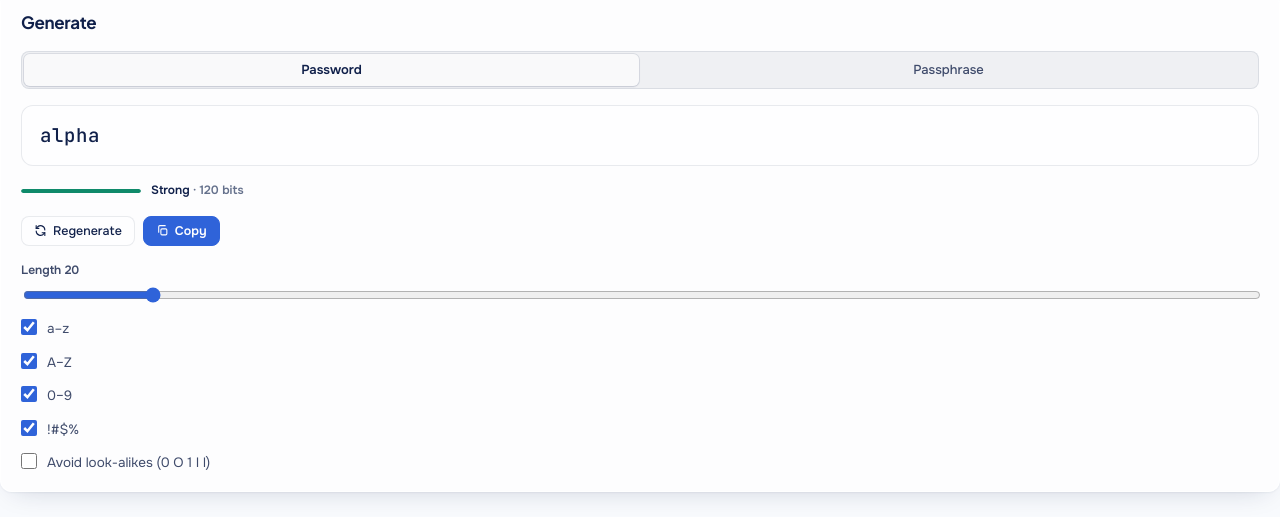
Generator › generates a password, regenerates and copies it
The width and height of the screenshot is (1280, 517).
Expected: the text "alpha" is shown, [40,123,100,148]
Expected: the text "Strong · 120 bits" is shown, [151,182,244,200]
Click the button "Regenerate" at (78, 231), box [21,216,135,246]
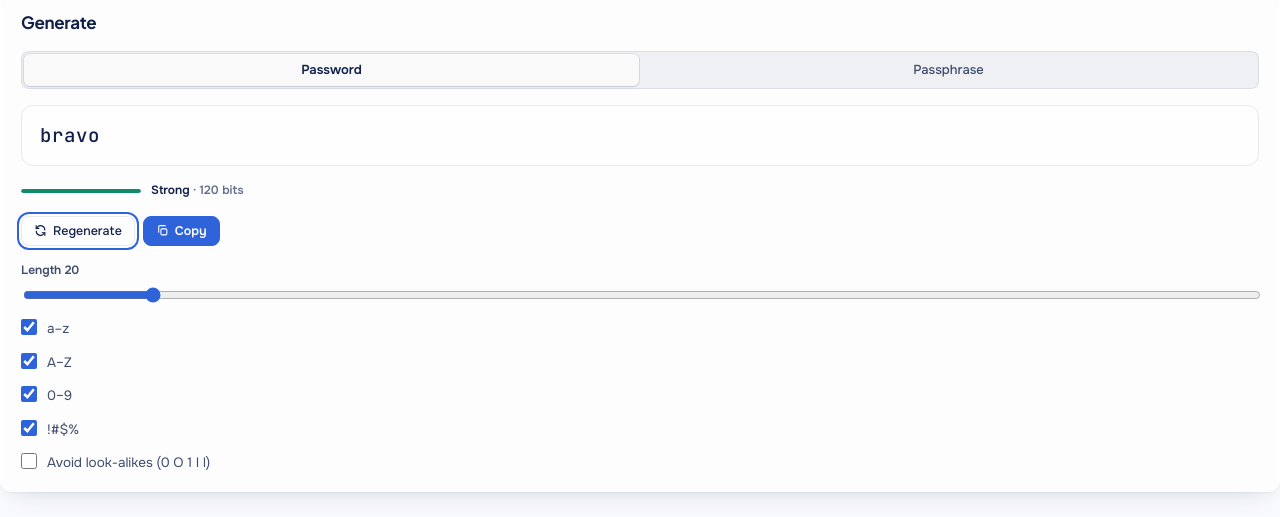
Now the text "bravo" is shown, box [40,123,100,148]
Click the button "Copy" at (181, 231), box [143,216,220,246]
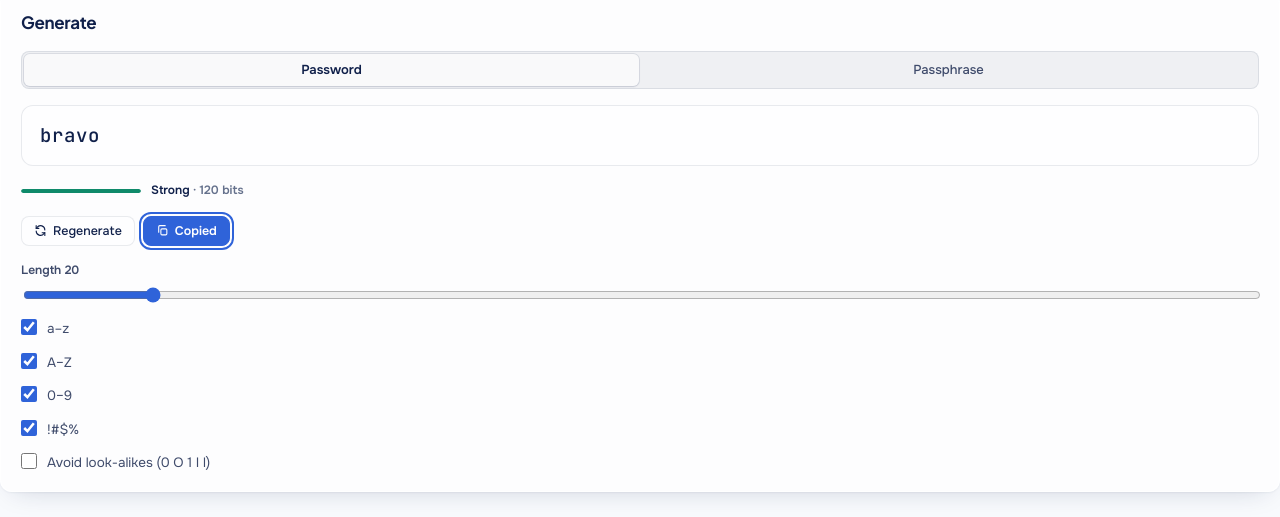
Now the button "Copied" is shown, box [143,216,230,246]
